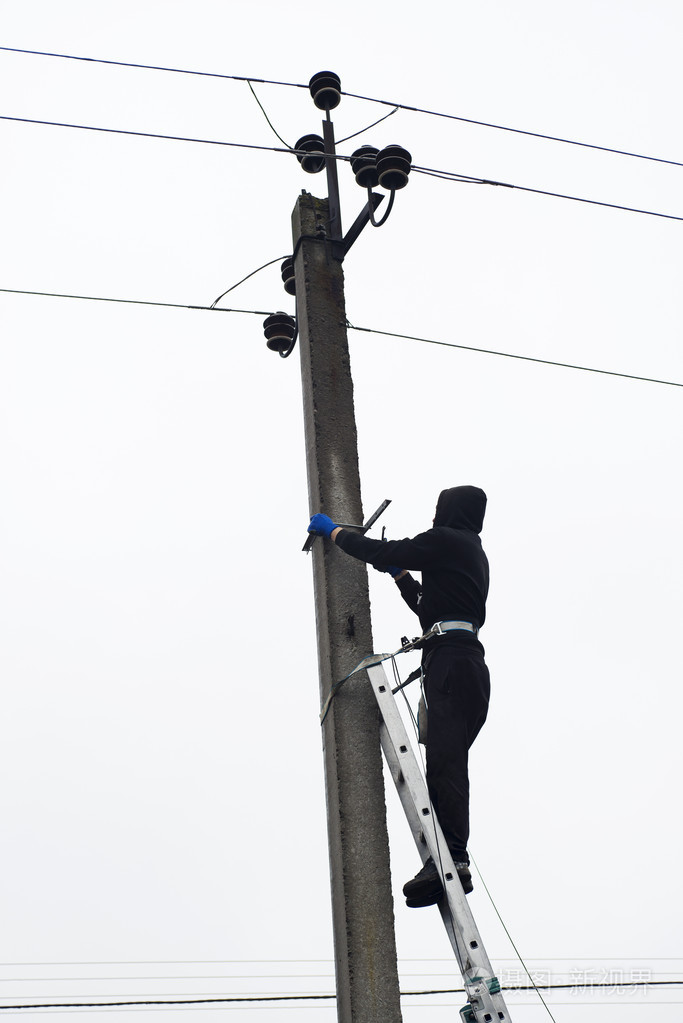insulator: (375, 142, 414, 192), (260, 311, 294, 353), (349, 142, 379, 187), (291, 134, 329, 169), (309, 72, 344, 108), (276, 254, 300, 290)
